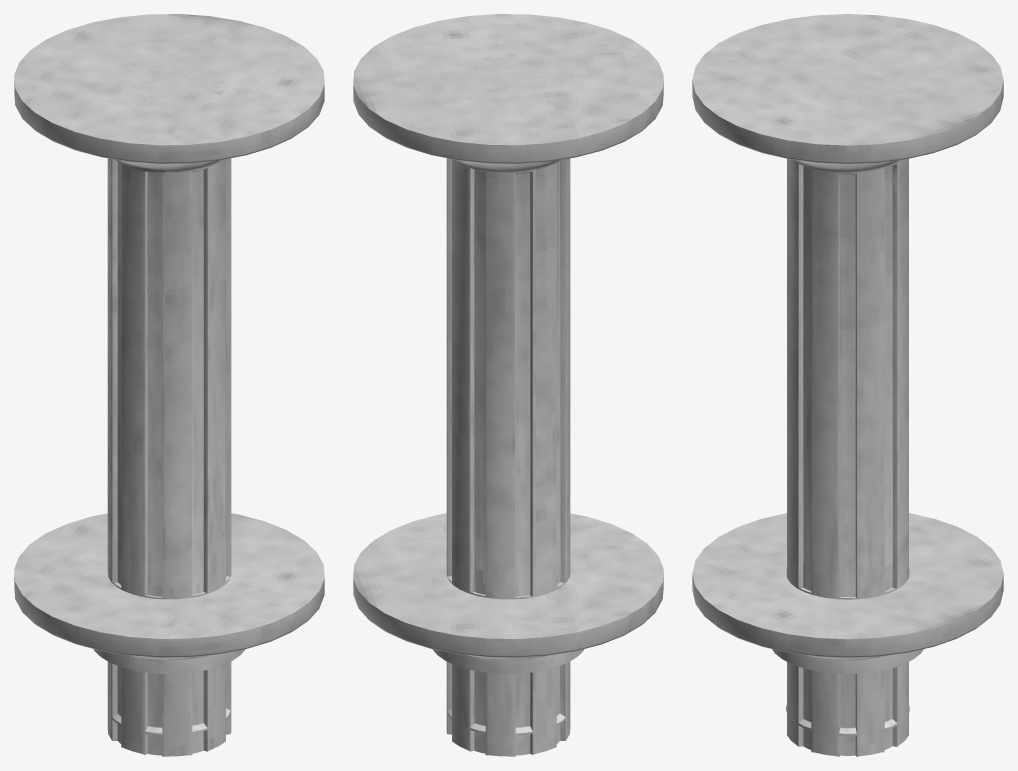
Rendered from PillarMiddleTop.fbx.
3 views of the same model, side by side, from view 1: azimuth 30°, elevation 25°; view 2: azimuth 150°, elevation 25°; view 3: azimuth 270°, elevation 25° (orthographic).
Visible parts, largest first — view 1: Pillar1, Pillar2, PillarTop, PillarMiddle, PillarMiddleTop, PillarMiddleButton; view 2: Pillar1, PillarTop, Pillar2, PillarMiddle, PillarMiddleTop, PillarMiddleButton; view 3: Pillar1, Pillar2, PillarTop, PillarMiddle, PillarMiddleTop, PillarMiddleButton.
Part boxes in pixels (x1,y1,x2,y2): Pillar1: [14, 14, 324, 673]; Pillar2: [108, 53, 231, 598]; PillarTop: [14, 513, 324, 660]; PillarMiddle: [108, 565, 231, 745]; PillarMiddleTop: [107, 575, 231, 756]; PillarMiddleButton: [108, 553, 231, 735]; Pillar1: [353, 14, 663, 673]; PillarTop: [353, 513, 663, 660]; Pillar2: [446, 53, 570, 598]; PillarMiddle: [446, 564, 570, 745]; PillarMiddleTop: [446, 575, 570, 756]; PillarMiddleButton: [446, 553, 570, 735]; Pillar1: [692, 14, 1003, 674]; Pillar2: [786, 53, 909, 599]; PillarTop: [692, 513, 1003, 660]; PillarMiddle: [787, 566, 908, 745]; PillarMiddleTop: [786, 569, 909, 756]; PillarMiddleButton: [786, 556, 909, 735].
Size of what is drawn, in the model's own units: 101 by 233 by 101.
